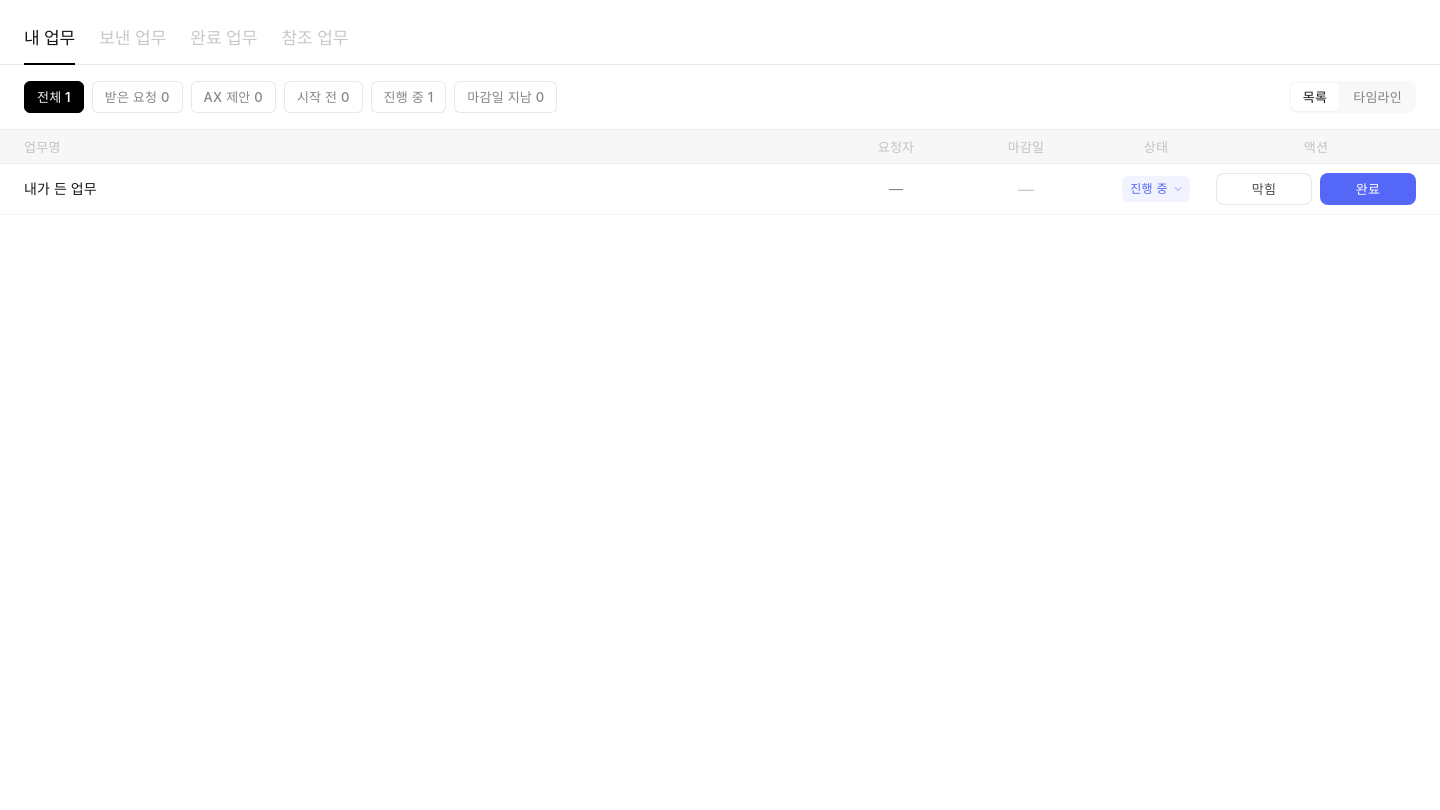
Scenario: work tabs and the one table they share › 요청 상세에는 상태와 요청자가 그대로 선다 — 걷어 낸 것은 생성 모달의 카드다
This screenshot has width=1440, height=810.
Click the tab "참조 업무" at x=315, y=38, box top-left (281, 12), bottom-right (348, 64)
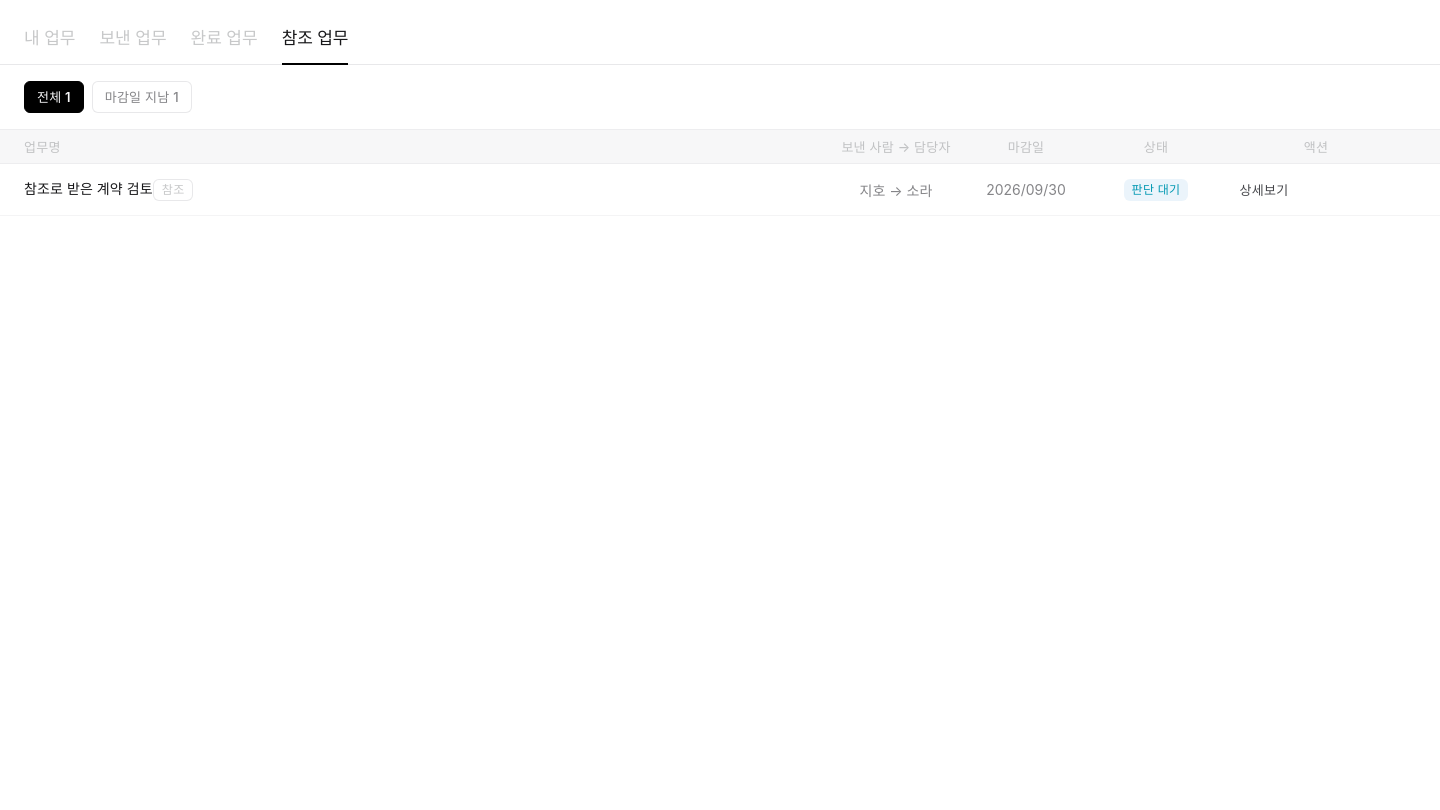
Click the text "참조로 받은 계약 검토" at x=88, y=188, box top-left (24, 180), bottom-right (153, 197)
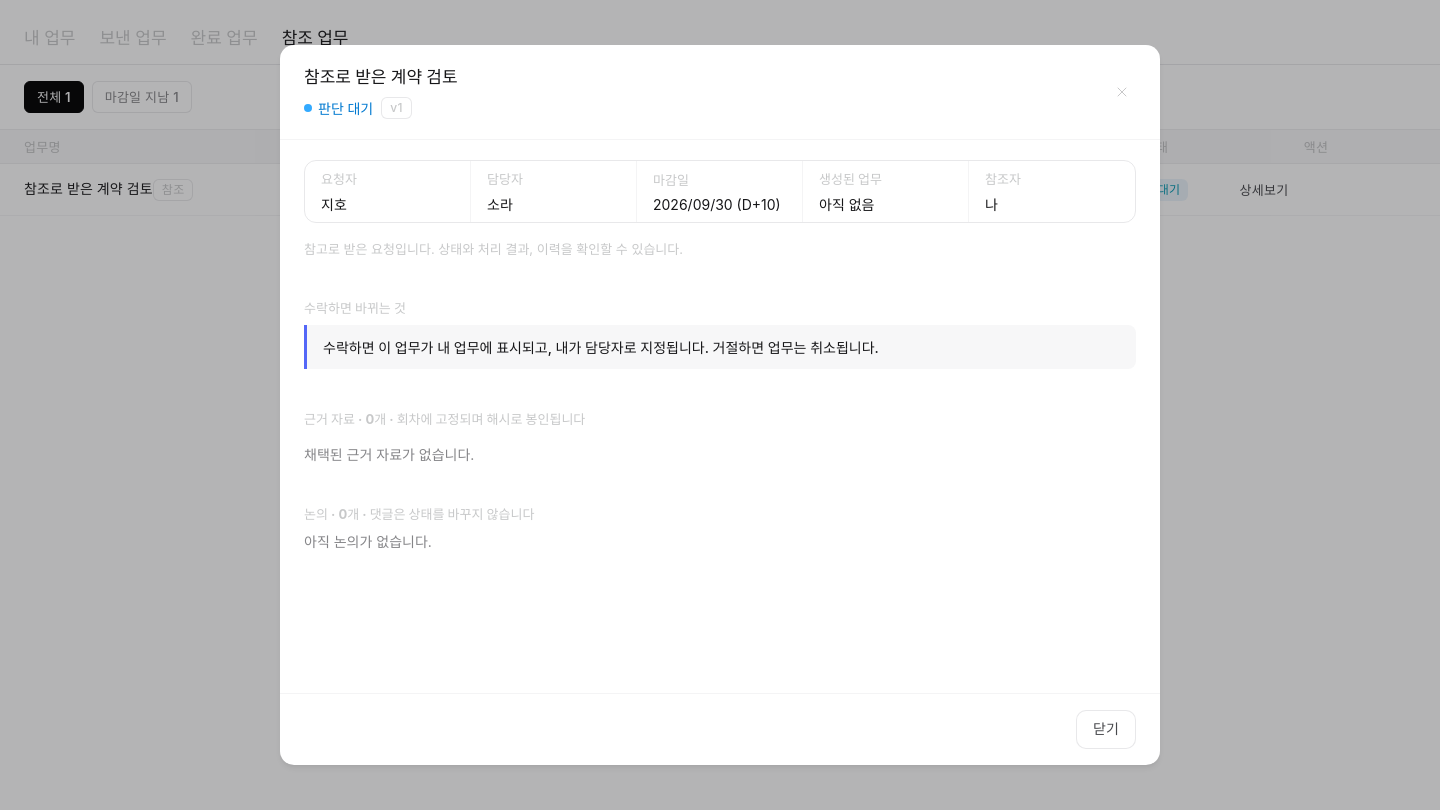
Now the text "판단 대기" is shown, box top-left (304, 98), bottom-right (373, 118)
Now the text "요청자" is shown, box top-left (321, 171), bottom-right (357, 187)
Now the text "지호" is shown, box top-left (321, 196), bottom-right (347, 213)
